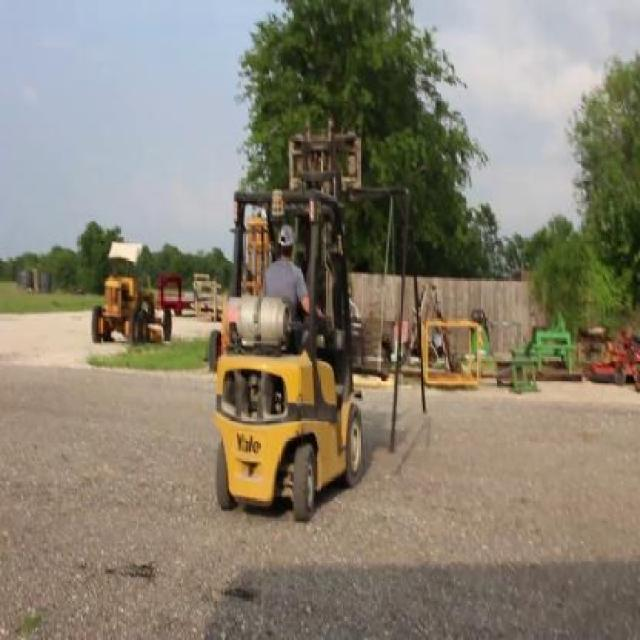forklift: (203, 191, 371, 519)
